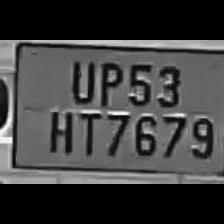3: (154, 61, 182, 107)
5: (122, 57, 154, 107)
6: (128, 109, 158, 159)
7: (100, 109, 128, 157), (159, 111, 185, 159)
9: (187, 113, 215, 159)
H: (43, 106, 74, 154)
P: (94, 56, 122, 107)
T: (74, 109, 100, 155)
U: (65, 54, 97, 104)
